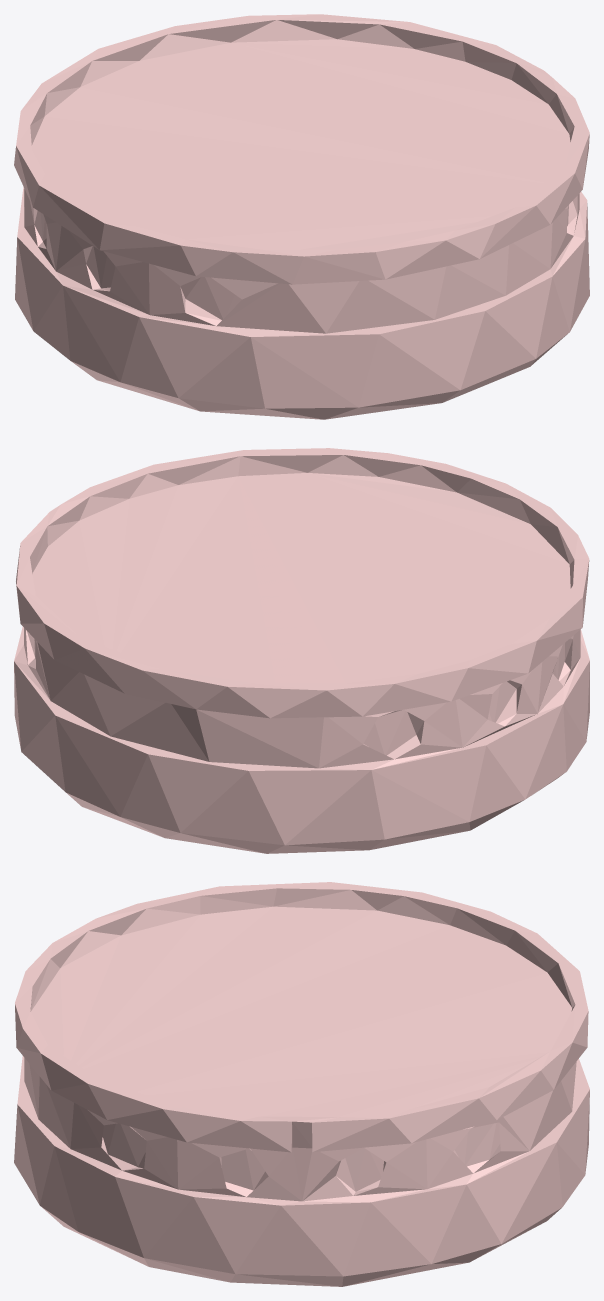
The model's file is MyCobot320Link6.dae.
The picture shows the model from 3 angles, top to bottom: view 1: azimuth 30°, elevation 25°; view 2: azimuth 150°, elevation 25°; view 3: azimuth 270°, elevation 25°; orthographic projection.
Visible parts, largest first — view 1: MyCobot320Link6; view 2: MyCobot320Link6; view 3: MyCobot320Link6.
Part boxes in pixels (x1,y1,x2,y2): MyCobot320Link6: (14,14,589,419); MyCobot320Link6: (14,448,589,853); MyCobot320Link6: (14,882,589,1286).
Size of the model in its own units: 0.0584 by 0.0584 by 0.0193.
